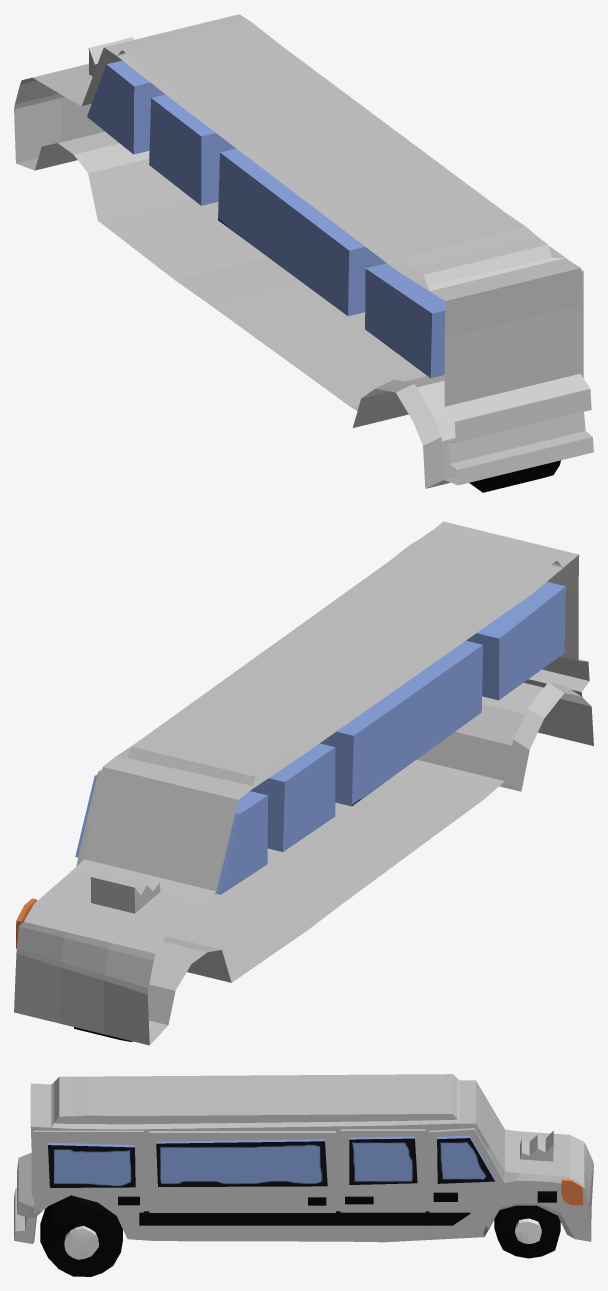
The model's file is Hummer.fbx.
The picture shows the model from 3 angles, top to bottom: view 1: azimuth 30°, elevation 25°; view 2: azimuth 150°, elevation 25°; view 3: azimuth 270°, elevation 25°; orthographic projection. The views are drawn at different scales.
Visible parts, largest first — view 1: Plane, Plane.001, Cube.012; view 2: Plane, Plane.001; view 3: Plane, Plane.001, Cube.012, Cube.013, Cube.014, Cube.010.
Boxes of the visible parts, left/top/right/bottom form: Plane: left=14, top=14, right=593, bottom=488; Plane.001: left=87, top=60, right=445, bottom=378; Cube.012: left=469, top=460, right=560, bottom=492; Plane: left=14, top=521, right=593, bottom=1045; Plane.001: left=75, top=581, right=565, bottom=894; Plane: left=14, top=1074, right=593, bottom=1243; Plane.001: left=48, top=1135, right=495, bottom=1187; Cube.012: left=40, top=1191, right=560, bottom=1276; Cube.013: left=64, top=1225, right=98, bottom=1259; Cube.014: left=515, top=1218, right=541, bottom=1243; Cube.010: left=561, top=1179, right=582, bottom=1205.
Size of the model in its own units: 89.08 by 127 by 412.
